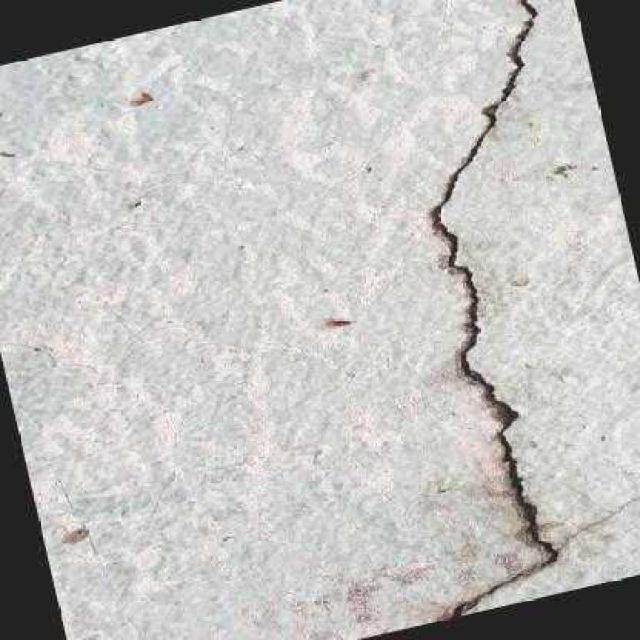D00: (425, 0, 562, 620)
